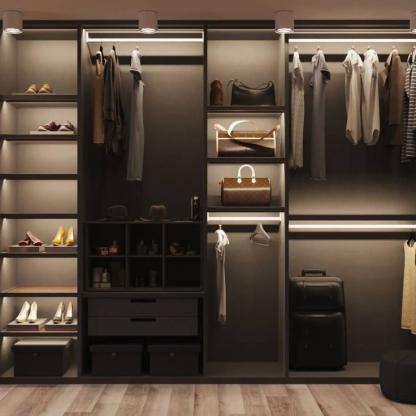Transparent Closet: (0, 16, 413, 384)
